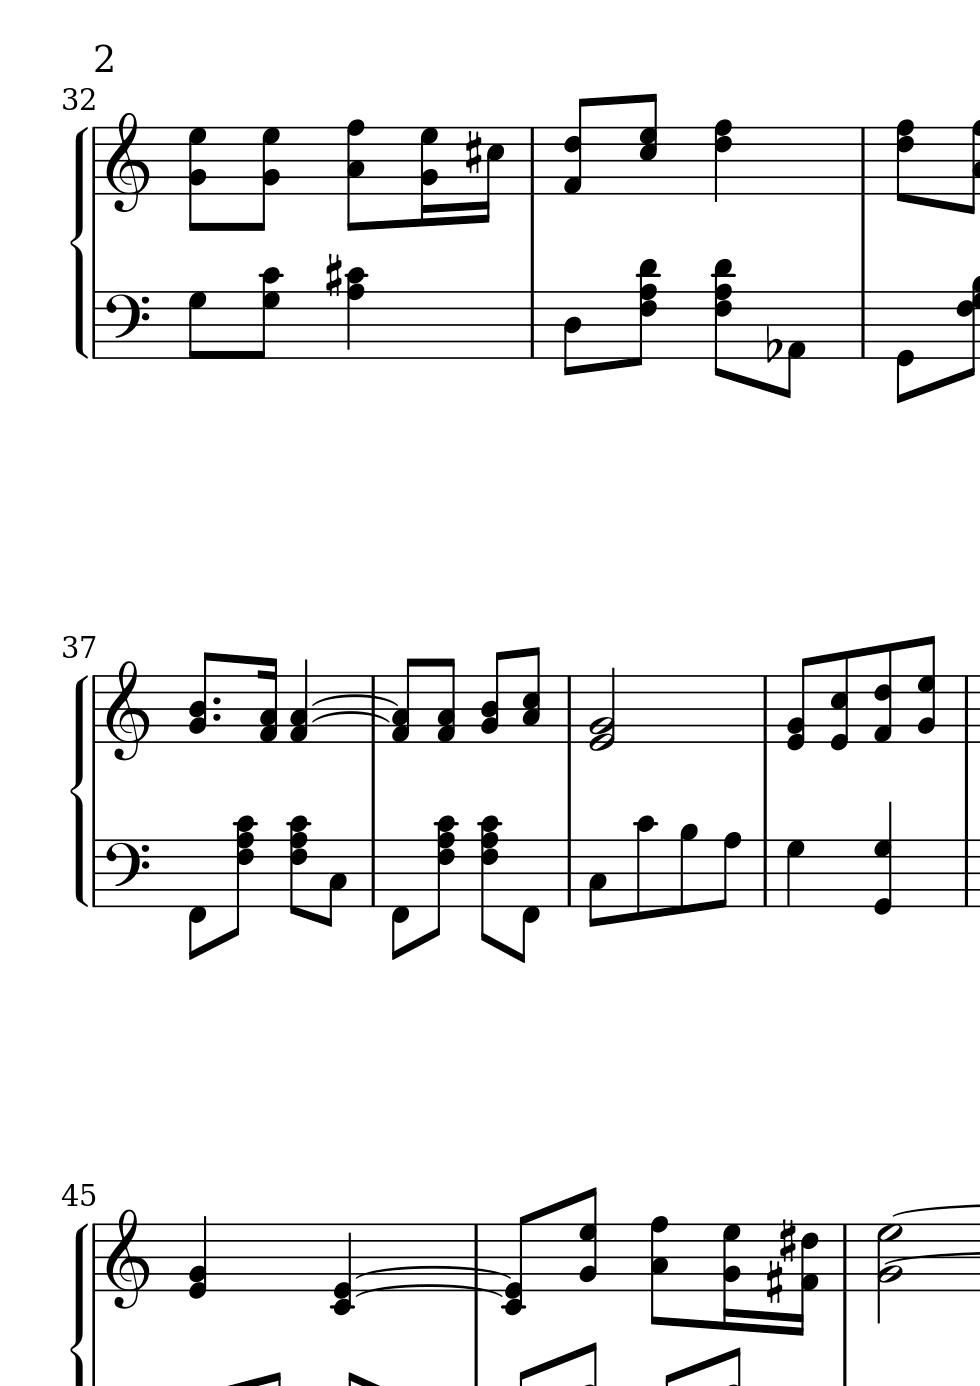16_1_3: (256, 657, 281, 745)
16_1_6: (795, 1222, 819, 1338)
16_2_7: (876, 1222, 903, 1324), (721, 1222, 743, 1333), (419, 125, 441, 228)
16_5: (477, 125, 504, 225)
2: (92, 43, 113, 73), (77, 87, 97, 113)
2_0_2: (587, 667, 617, 751)
3: (60, 634, 78, 661), (62, 86, 77, 112)
4: (62, 1182, 78, 1208)
4_-2_0: (329, 1223, 356, 1316)
4_0_2: (188, 1215, 209, 1299)
4_0_7: (873, 802, 894, 916)
4_1_3: (288, 657, 310, 743)
4_6_8: (714, 118, 732, 205)
4_7: (785, 839, 806, 908)
4_7_10: (253, 267, 283, 359)
4_8_10: (343, 265, 366, 359)
5: (78, 1180, 97, 1208)
7: (78, 633, 97, 661)
8_-1: (517, 836, 541, 964), (185, 837, 207, 961), (388, 838, 410, 962)
8_-2_0: (501, 1211, 532, 1316)
8_0: (893, 290, 914, 405)
8_0_2: (785, 655, 815, 750)
8_0_5: (829, 650, 852, 750)
8_1: (781, 288, 807, 400)
8_10: (633, 814, 657, 922)
8_1_3: (390, 657, 420, 742), (436, 657, 458, 745)
8_1_6: (563, 97, 592, 196), (873, 642, 894, 744)
8_2_4: (188, 651, 214, 744), (480, 649, 506, 742)
8_2_7: (255, 124, 281, 232), (187, 125, 209, 233), (916, 635, 938, 745), (579, 1185, 598, 1293)
8_3: (321, 838, 348, 928), (587, 839, 607, 929)
8_3_5: (521, 645, 541, 744)
8_3_8: (345, 118, 367, 233), (649, 1215, 669, 1327)
8_4: (561, 290, 582, 379)
8_5_7: (638, 92, 660, 198)
8_6_8: (896, 118, 916, 205)
8_7: (186, 290, 207, 361)
8_8: (713, 830, 741, 910)
8_9: (678, 823, 698, 915)
8_th: (423, 810, 461, 954), (472, 810, 507, 957), (226, 812, 258, 943), (627, 256, 661, 372), (707, 257, 737, 381), (284, 811, 312, 926)
Brace: (67, 1221, 89, 1386)
Fclef: (102, 838, 150, 909), (102, 290, 150, 359)
Flat: (763, 322, 780, 365)
Gclef: (104, 657, 150, 762), (105, 1206, 151, 1311), (104, 110, 148, 213)
Sharp: (462, 129, 483, 177), (764, 1260, 784, 1306), (777, 1215, 798, 1261), (323, 252, 343, 299)
Single_barline: (852, 127, 873, 195), (522, 292, 542, 359), (756, 676, 774, 743), (523, 128, 541, 195), (853, 292, 871, 357), (560, 840, 578, 906), (468, 1223, 486, 1287), (957, 676, 974, 743), (364, 839, 381, 907), (757, 839, 774, 907), (836, 1223, 853, 1291), (365, 676, 383, 739), (561, 676, 578, 742), (958, 840, 975, 907), (88, 292, 103, 359), (87, 1224, 102, 1292), (87, 128, 102, 195), (88, 840, 103, 907), (88, 676, 102, 743)
Slur: (352, 1264, 512, 1281), (354, 1284, 500, 1297), (310, 694, 399, 707), (312, 710, 388, 725)
dot: (209, 694, 222, 707), (210, 710, 223, 723)
